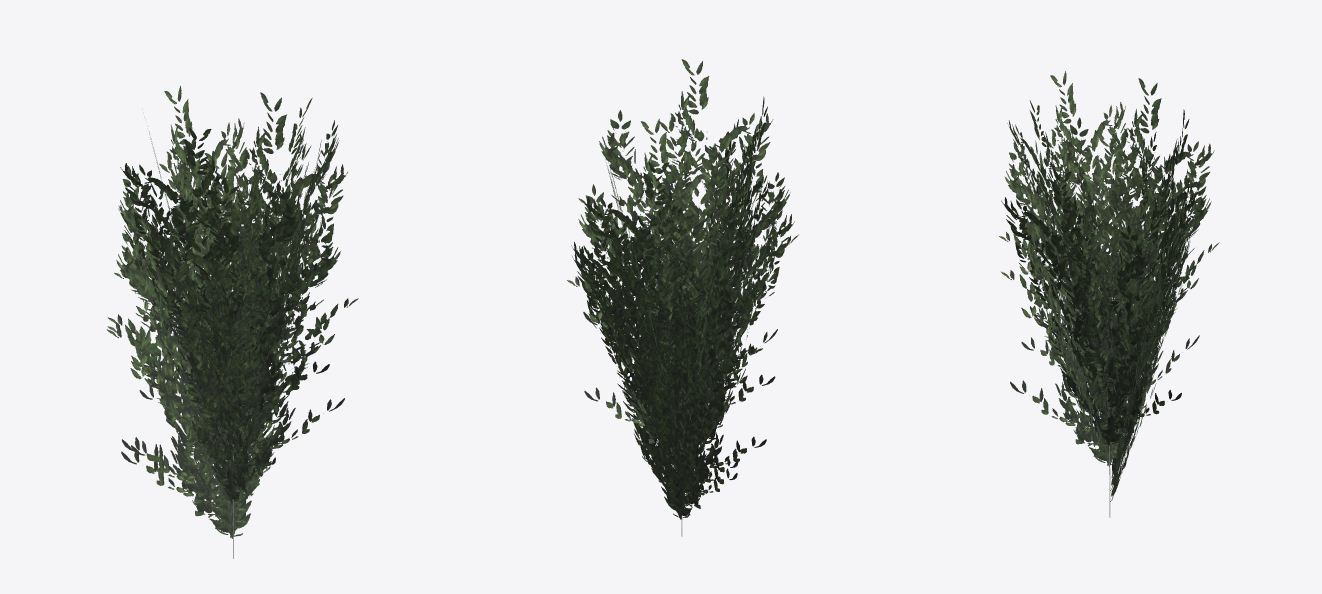
The model's file is buisson2.fbx.
3 renders of one model, left to right at view 1: azimuth 30°, elevation 25°; view 2: azimuth 150°, elevation 25°; view 3: azimuth 270°, elevation 25°, orthographic. The views are drawn at different scales.
Visible parts, largest first — view 1: Sans_titre; view 2: Sans_titre; view 3: Sans_titre.
Boxes of the visible parts, <box> form: Sans_titre: <box>106,86,358,558</box>; Sans_titre: <box>567,59,798,536</box>; Sans_titre: <box>999,71,1219,517</box>.
Size of the model in its own units: 2.19 by 2.7 by 2.21.
